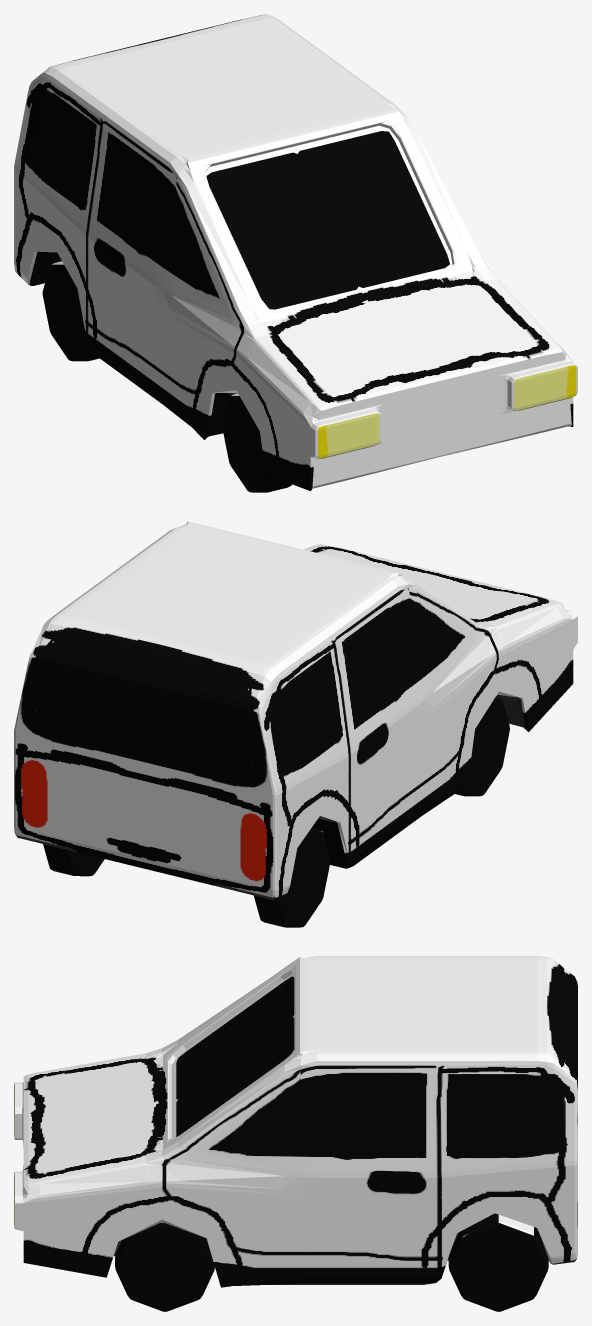
The model's file is car.obj.
3 renders of one model, top to bottom at view 1: azimuth 30°, elevation 25°; view 2: azimuth 150°, elevation 25°; view 3: azimuth 270°, elevation 25°, orthographic. The views are drawn at different scales.
Parts seen in each view (by area): view 1: Cube; view 2: Cube; view 3: Cube.
Part boxes in pixels (box(x1,y1,x2,y2)): Cube: box(14, 14, 577, 492); Cube: box(14, 521, 577, 927); Cube: box(14, 956, 577, 1311).
Size of the model in its own units: 0.5004 by 0.4982 by 1.
